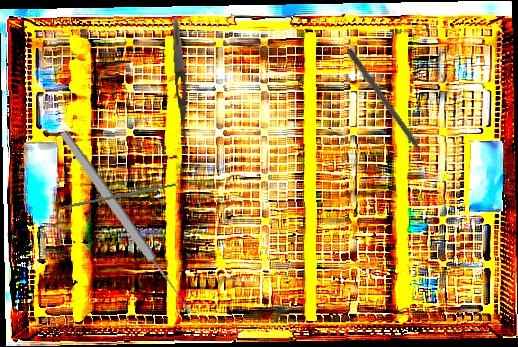Dressing Forceps: (169, 16, 193, 153)
Pusher: (344, 47, 435, 171)
Scalpel Handle: (59, 182, 177, 211)
Surgical Spoon: (57, 128, 195, 317)
